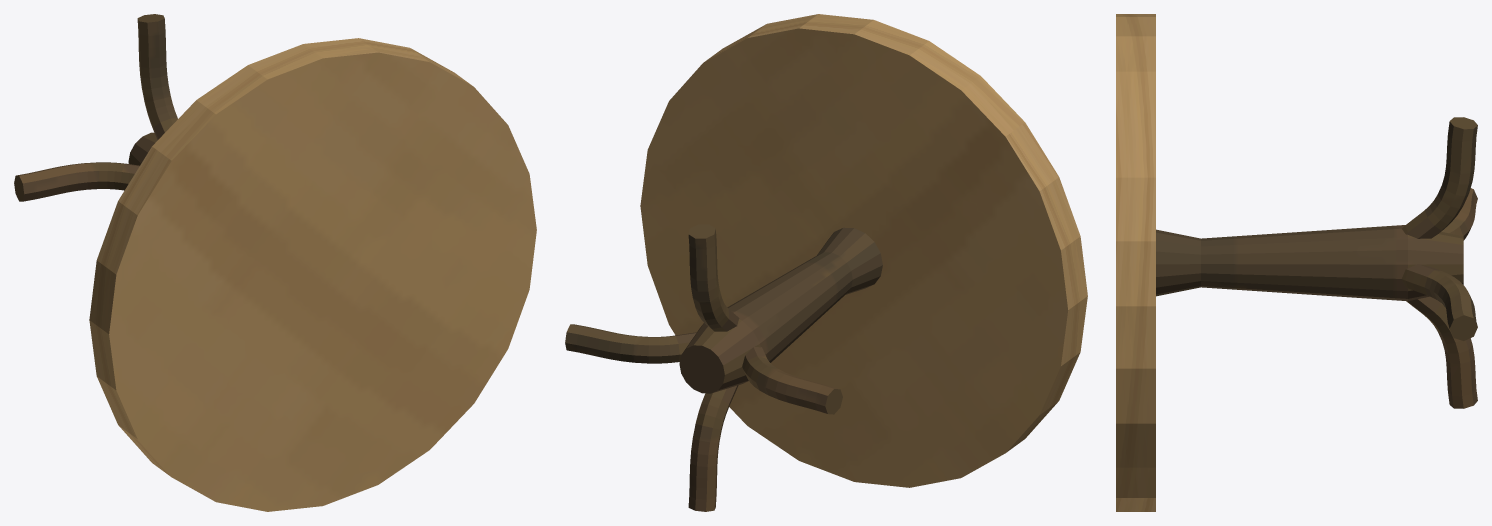
The model's file is pz_table_tables_high_01_light_round_table.obj.
3 renders of one model, left to right at view 1: azimuth 30°, elevation 25°; view 2: azimuth 150°, elevation 25°; view 3: azimuth 270°, elevation 25°, orthographic.
Bounding box in the file's own units: 0.94 × 0.94 × 0.6806.
1 material, 1 textured.
